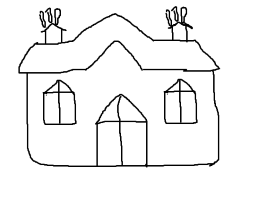closed_window: (38, 76, 80, 128), (161, 76, 200, 129)
door: (93, 88, 155, 173)
roof: (14, 11, 226, 78)
smoking_chimney: (38, 1, 72, 50), (158, 2, 195, 45)
wall: (23, 64, 220, 170)
